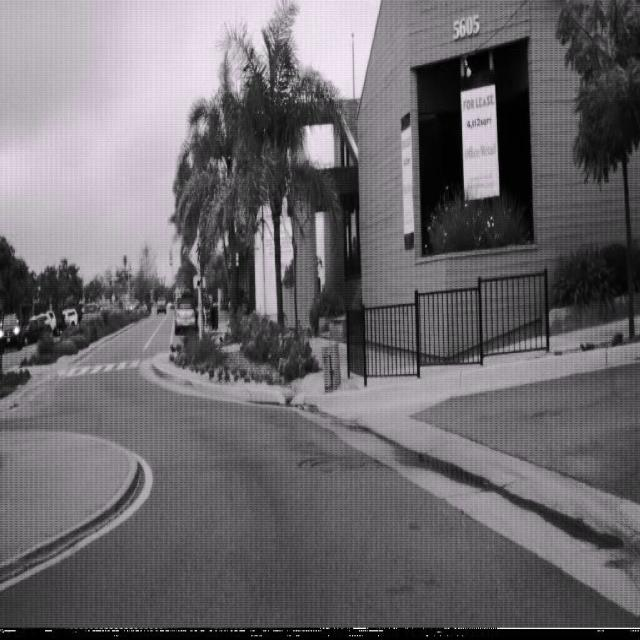pedestrianCrossing: (188, 230, 210, 274)
